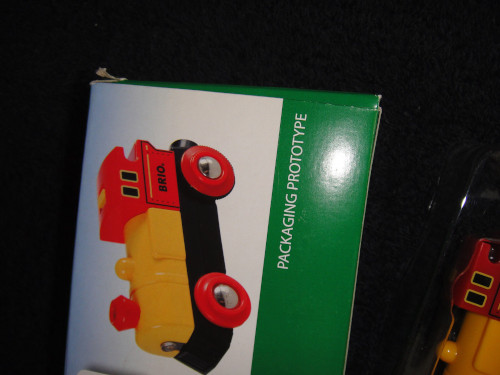brio: (90, 140, 252, 374)
